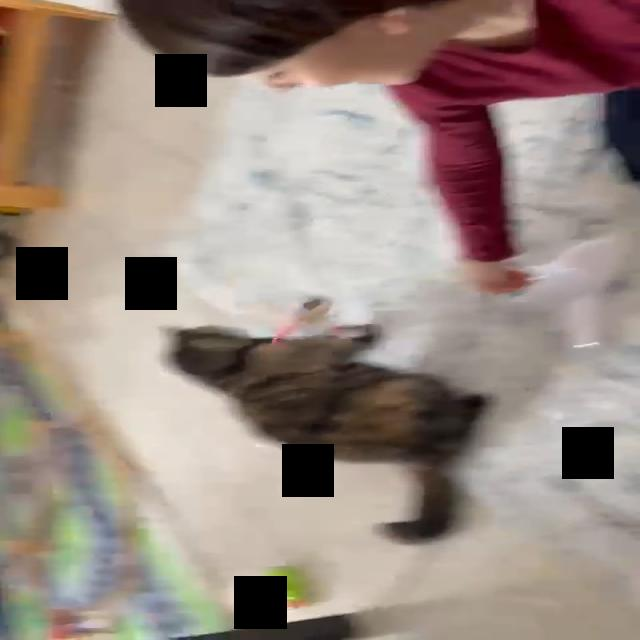authorized: (160, 321, 495, 543)
